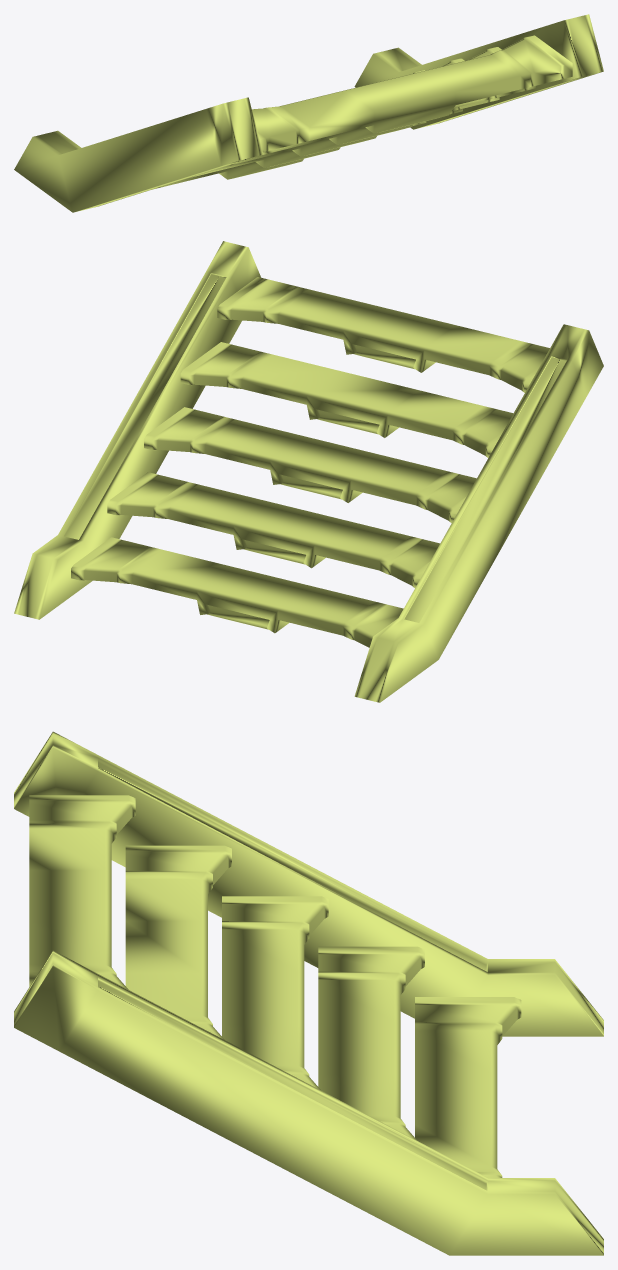
File: Inicio de la escalera.fbx
3 renders of one model, top to bottom at view 1: azimuth 30°, elevation 25°; view 2: azimuth 150°, elevation 25°; view 3: azimuth 270°, elevation 25°, orthographic. The views are drawn at different scales.
Visible parts, largest first — view 1: Tile de Inicio de escalera.003; view 2: Tile de Inicio de escalera.003; view 3: Tile de Inicio de escalera.003.
Part boxes in pixels (<box>): Tile de Inicio de escalera.003: <box>14,14,603,212</box>; Tile de Inicio de escalera.003: <box>14,241,603,702</box>; Tile de Inicio de escalera.003: <box>14,731,603,1255</box>.
Bounding box in the file's own units: 200 × 115 × 212.
